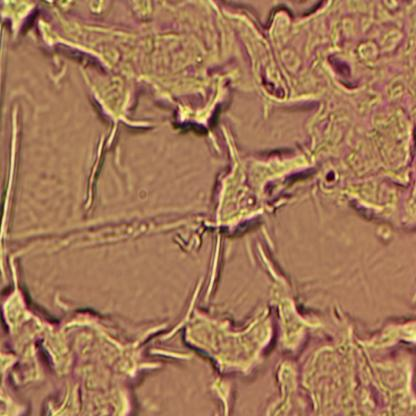Stage I: (0, 273, 416, 416), (200, 0, 416, 233), (4, 0, 276, 122)
